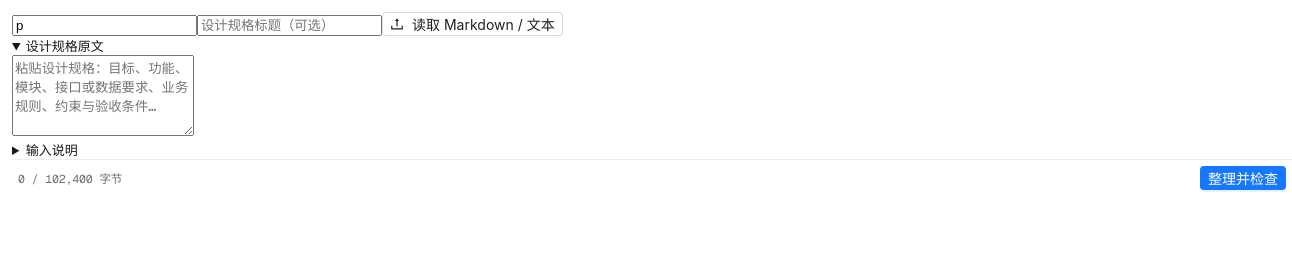
Test: DesignSpecInput upload and local validation › rejects empty organize locally and does not create a run
What coordinates should you click on to do the following:
click the button "整理并检查"
I would click on:
 (1243, 178)
Its box is [1200,166,1286,190].
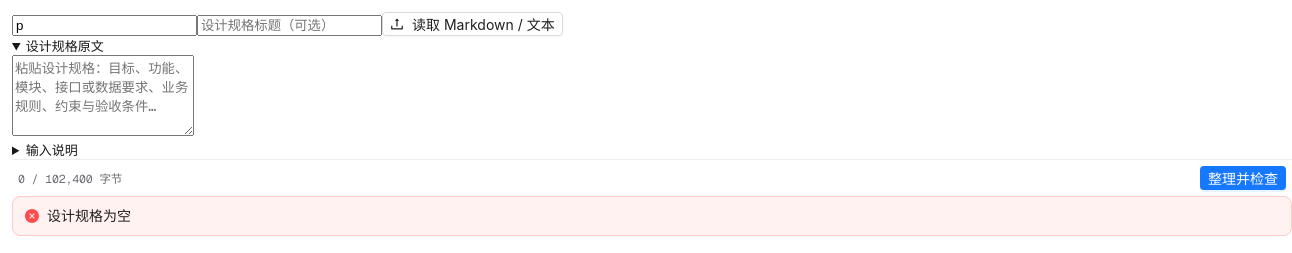
Expected: the text "设计规格为空" is shown, [47,207,131,224]
